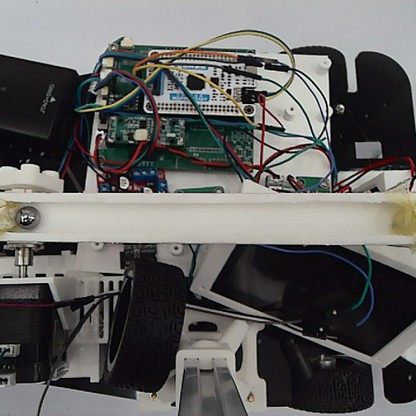ironball: (13, 203, 40, 230)
